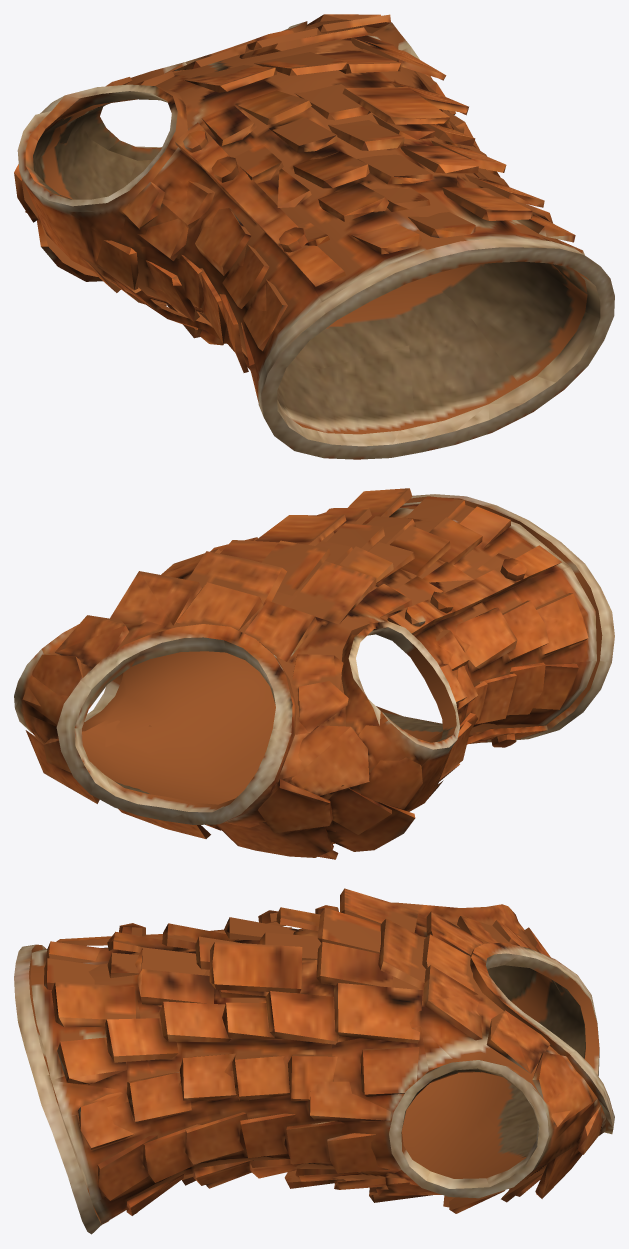
Rendered from item_mm9_10090.glb.
The picture shows the model from 3 angles, top to bottom: view 1: azimuth 30°, elevation 25°; view 2: azimuth 150°, elevation 25°; view 3: azimuth 270°, elevation 25°; orthographic projection. The views are drawn at different scales.
Parts seen in each view (by area): view 1: d10090; view 2: d10090; view 3: d10090.
Part boxes in pixels (bbox=[...]): d10090: bbox=[14, 14, 614, 459]; d10090: bbox=[14, 488, 614, 859]; d10090: bbox=[14, 888, 614, 1234].
Bounding box in the file's own units: 0.7981 × 0.5384 × 1.03.
1 material, 1 textured.
